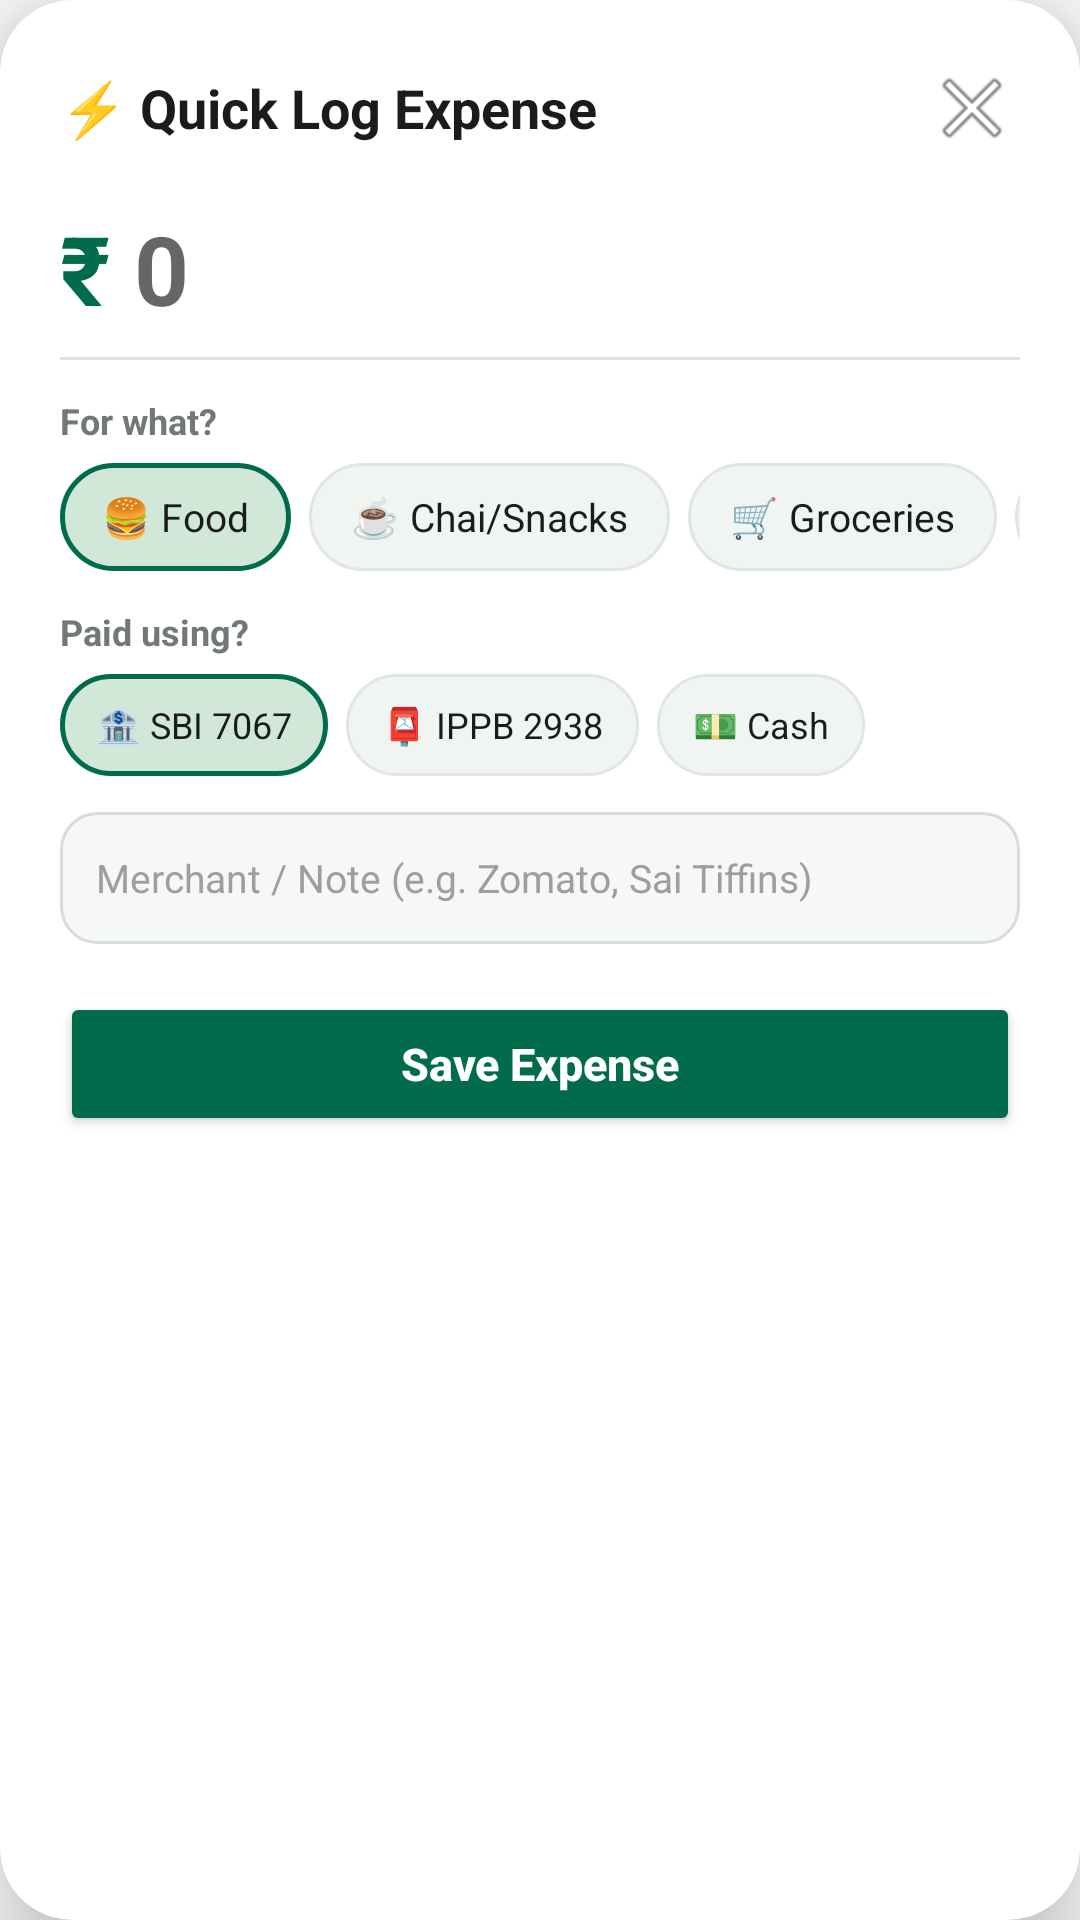

Named icons in this screenshot (1080×1920) and their centers, (x,y):
Close: (972,108)
